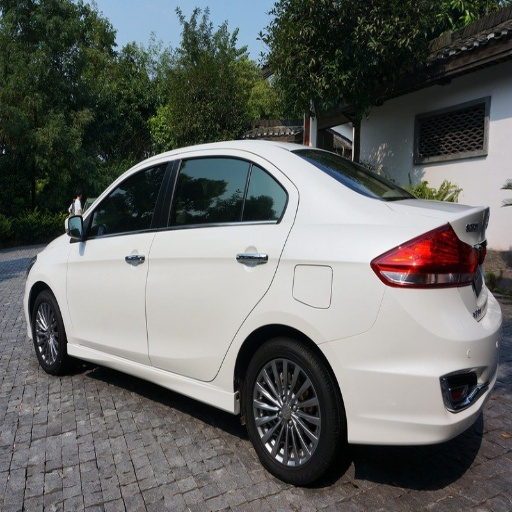back_bumper: (321, 284, 496, 440)
back_glass: (294, 150, 414, 201)
back_left_door: (147, 154, 295, 378)
tailgate: (433, 214, 482, 316)
trunk: (379, 279, 480, 337)
